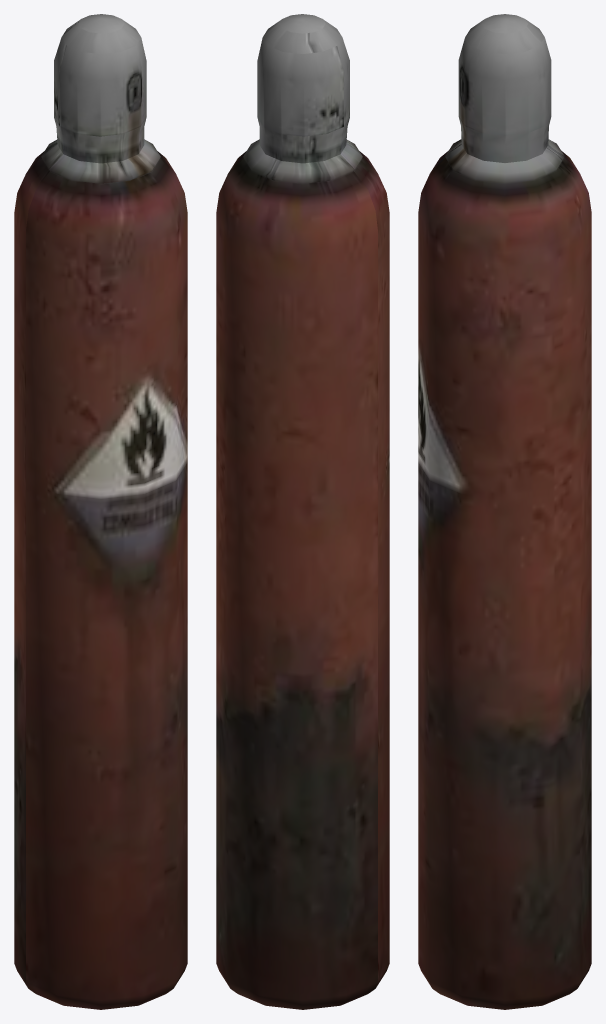
The model's file is canister02a.glb.
3 renders of one model, left to right at view 1: azimuth 30°, elevation 25°; view 2: azimuth 150°, elevation 25°; view 3: azimuth 270°, elevation 25°, orthographic.
Visible parts, largest first — view 1: 0_canister02a; view 2: 0_canister02a; view 3: 0_canister02a.
Part boxes in pixels (x1,y1,x2,y2): 0_canister02a: (14, 14, 187, 1009); 0_canister02a: (216, 14, 389, 1009); 0_canister02a: (418, 14, 591, 1009).
Bounding box in the file's own units: 0.244 × 1.49 × 0.244.
Materials: 1 (1 with a texture image).
